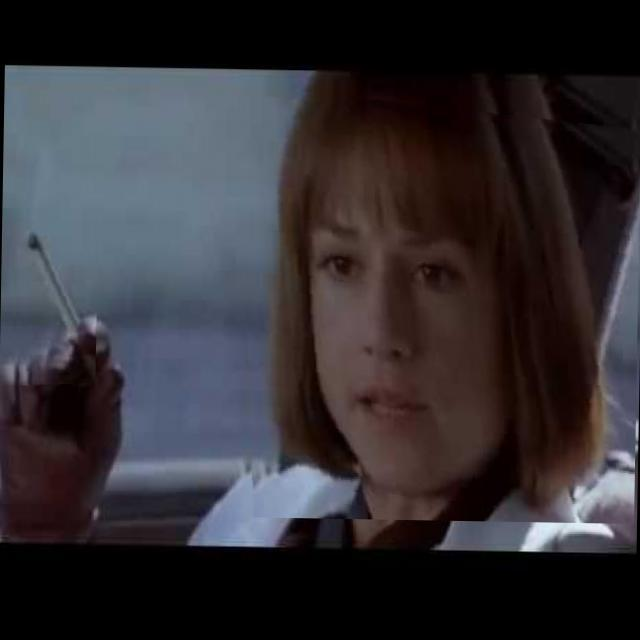cigarette: (6, 216, 98, 386)
